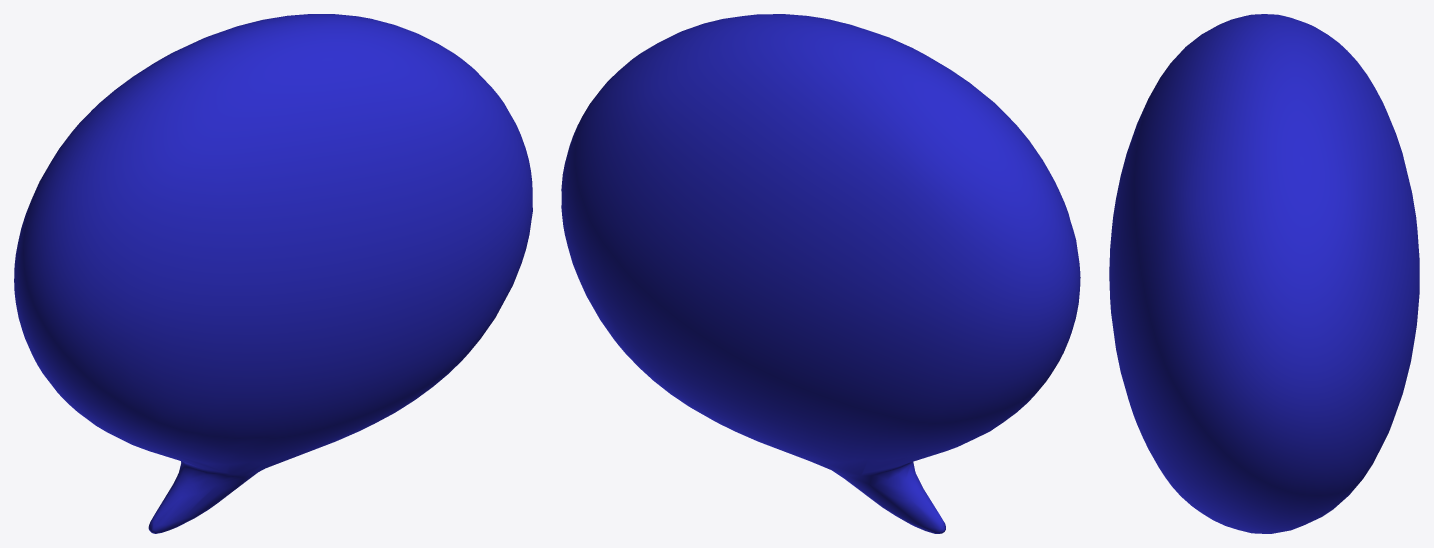
The model's file is chat.glb.
3 views of the same model, side by side, from view 1: azimuth 30°, elevation 25°; view 2: azimuth 150°, elevation 25°; view 3: azimuth 270°, elevation 25° (orthographic). The views are drawn at different scales.
Parts seen in each view (by area): view 1: Chat-Only; view 2: Chat-Only; view 3: Chat-Only.
Boxes of the visible parts, left/top/right/bottom form: Chat-Only: left=14, top=14, right=532, bottom=533; Chat-Only: left=561, top=14, right=1080, bottom=533; Chat-Only: left=1109, top=14, right=1419, bottom=533.
Size of the model in its own units: 1.89 by 1.74 by 0.9533.
